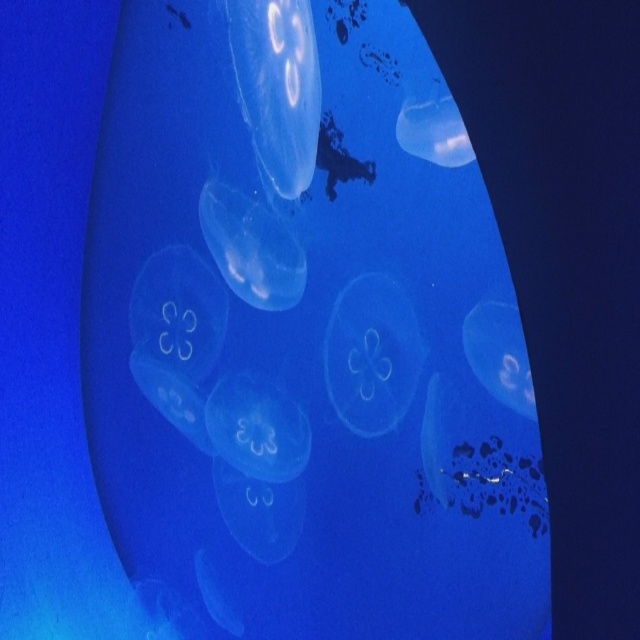Jellyfish: (0, 0, 552, 640)
